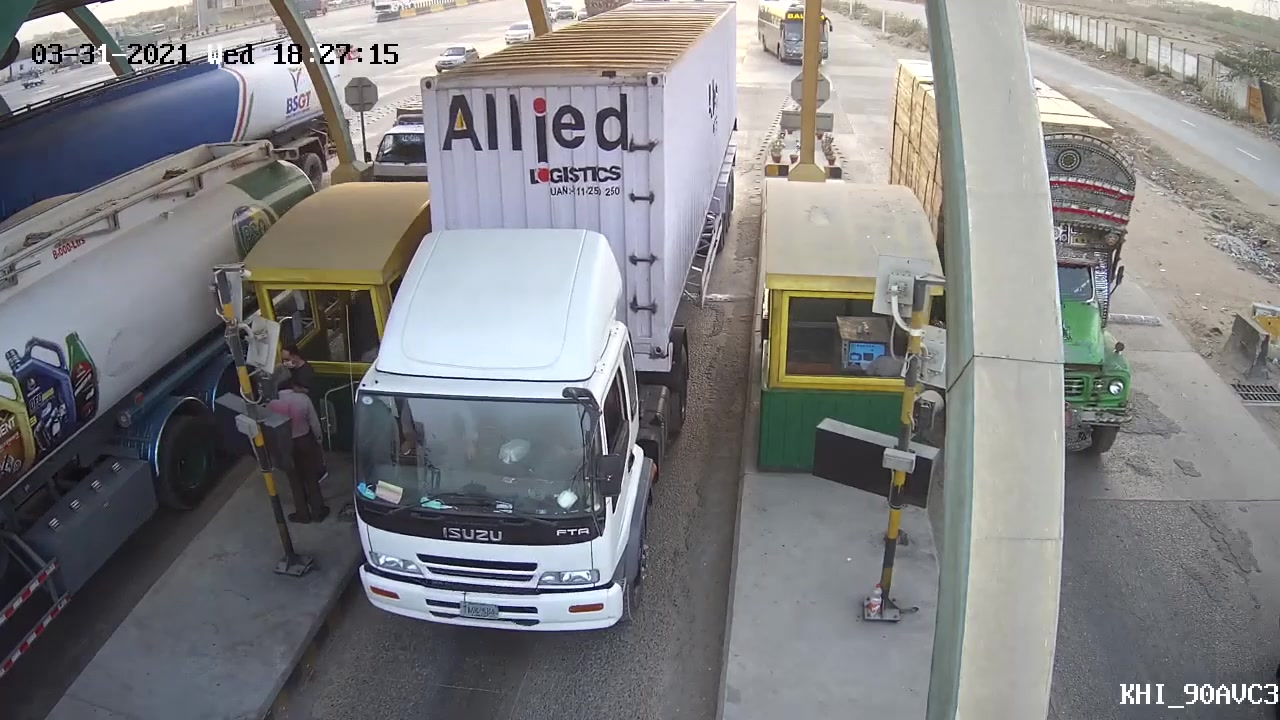F6: (342, 1, 746, 638)
